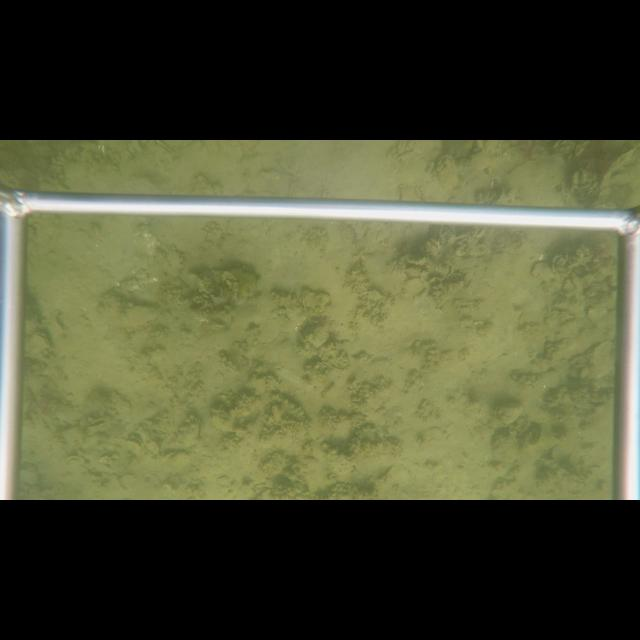Oyster-Closed: (299, 289, 335, 316), (24, 332, 49, 356), (405, 265, 422, 277)
Oyster-Open: (492, 403, 524, 427), (125, 436, 143, 455)
